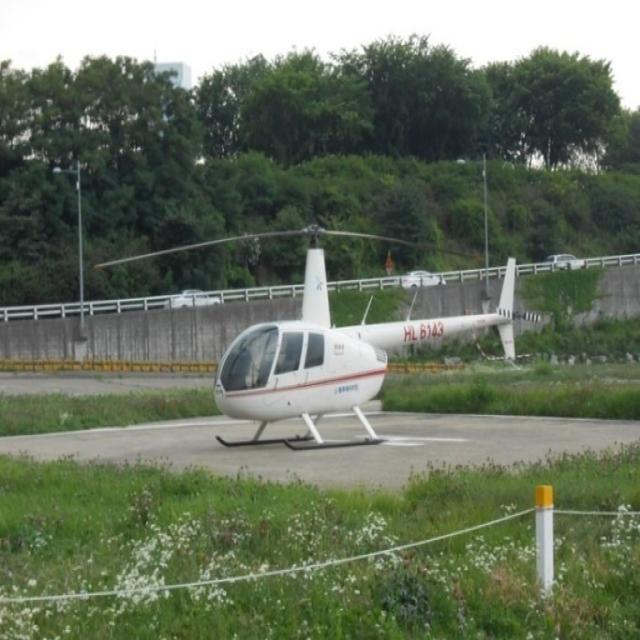CIV_HELO: (213, 219, 518, 456)
